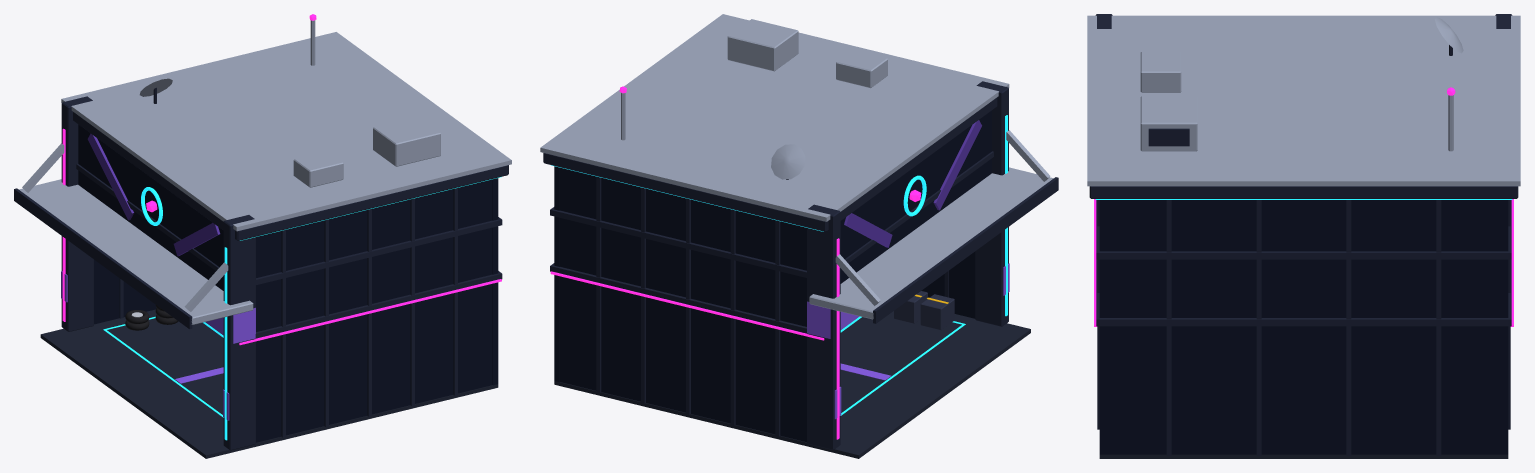
File: pit-garage-city.glb
The picture shows the model from 3 angles, left to right: view 1: azimuth 30°, elevation 25°; view 2: azimuth 150°, elevation 25°; view 3: azimuth 270°, elevation 25°; orthographic projection. The views are drawn at different scales.
Parts seen in each view (by area): view 1: RoofLip, WallLeft, Floor, Canopy, WallFrontUpper, Pylon, Roof, Pylon_1, CanopyEdge, RoofUnit, WallRight, WallBandL_1 (+17 smaller); view 2: RoofLip, WallRight, Floor, Canopy, WallFrontUpper, Pylon_1, Roof, Pylon, CanopyEdge, RoofUnit, WallBandR_1, WallBandR (+19 smaller); view 3: WallBack, RoofLip, Roof, WallBandB, WallBandB_1, RoofUnit, Floor, WallLeft, WallRight, RoofUnit_1, WallMullionB, WallMullionB_1 (+5 smaller).
Boxes of the visible parts, <box> form: RoofLip: <box>61,32,511,231</box>; WallLeft: <box>256,179,492,442</box>; Floor: <box>40,309,498,458</box>; Canopy: <box>19,179,253,324</box>; WallFrontUpper: <box>78,124,223,290</box>; Pylon: <box>223,215,255,450</box>; Roof: <box>73,112,508,240</box>; Pylon_1: <box>61,96,93,331</box>; CanopyEdge: <box>14,188,192,329</box>; RoofUnit: <box>373,116,440,166</box>; WallRight: <box>94,259,156,324</box>; WallBandL_1: <box>255,221,492,284</box>; RoofLip: <box>540,14,1009,221</box>; WallRight: <box>560,167,806,441</box>; Floor: <box>554,311,1030,458</box>; Canopy: <box>809,167,1053,319</box>; WallFrontUpper: <box>840,110,991,283</box>; Pylon_1: <box>807,204,840,450</box>; Roof: <box>543,97,997,231</box>; Pylon: <box>975,81,1008,326</box>; CanopyEdge: <box>873,177,1058,323</box>; RoofUnit: <box>727,19,798,71</box>; WallBandR_1: <box>560,211,806,277</box>; WallBandR: <box>560,267,806,333</box>; WallBack: <box>1099,200,1508,454</box>; RoofLip: <box>1087,15,1520,186</box>; Roof: <box>1089,186,1518,198</box>; WallBandB: <box>1096,313,1511,326</box>; WallBandB_1: <box>1096,247,1511,259</box>; RoofUnit: <box>1140,96,1197,151</box>; Floor: <box>1099,454,1508,458</box>; WallLeft: <box>1100,200,1107,454</box>; WallRight: <box>1500,200,1507,454</box>; RoofUnit_1: <box>1140,51,1181,92</box>; WallMullionB: <box>1166,200,1171,455</box>; WallMullionB_1: <box>1256,200,1261,455</box>.
Bounding box in the file's own units: 11.25 × 9.34 × 10.6.
